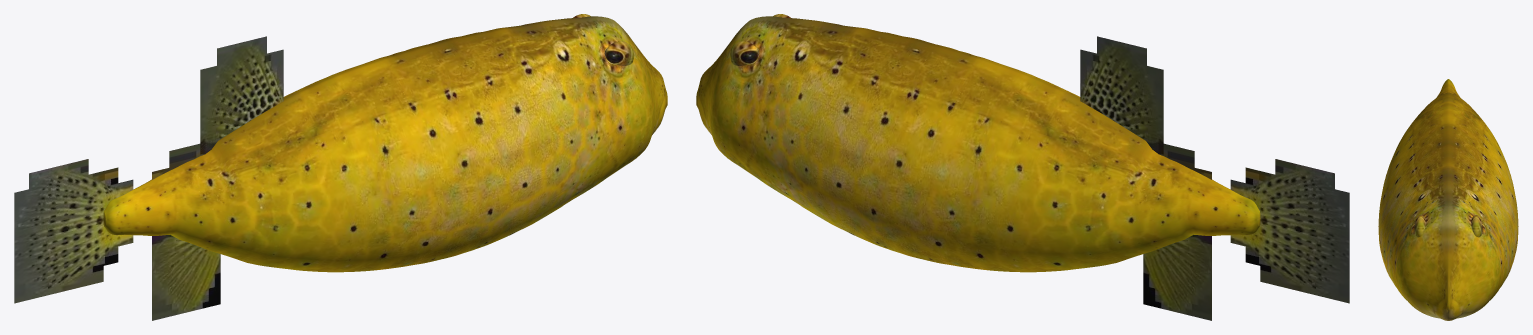
File: real-ostracion_cubicum.glb
3 views of the same model, side by side, from view 1: azimuth 30°, elevation 25°; view 2: azimuth 150°, elevation 25°; view 3: azimuth 270°, elevation 25° (orthographic). The views are drawn at different scales.
Visible parts, largest first — view 1: ostracion_cubicum; view 2: ostracion_cubicum; view 3: ostracion_cubicum.
Boxes of the visible parts, x1,y1,x2,y2 form: ostracion_cubicum: (14,14,667,320); ostracion_cubicum: (696,14,1349,320); ostracion_cubicum: (1378,79,1518,320).
Size of the model in its own units: 0.4507 by 0.1692 by 0.1127.
Materials: 1 (1 with a texture image).
